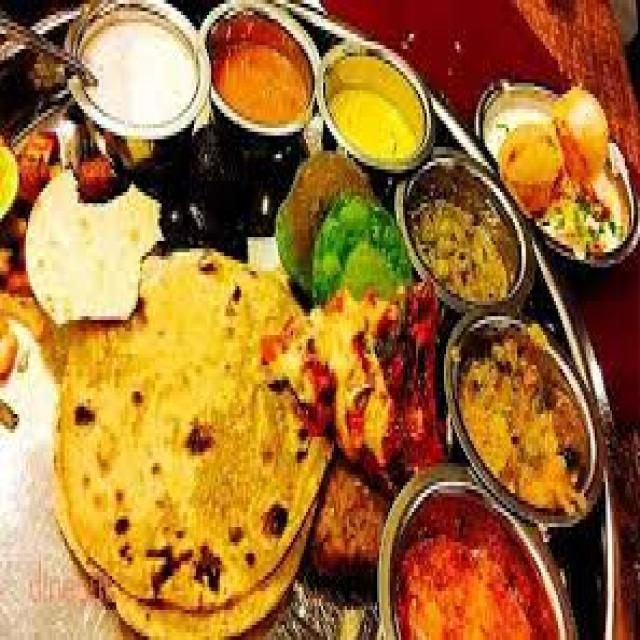curd: (73, 0, 212, 158)
papad: (18, 157, 169, 335)
rice: (445, 324, 599, 529)
roti: (63, 269, 321, 606)
sambar-rasam: (208, 11, 316, 147)
veg-fry: (360, 466, 595, 640)
